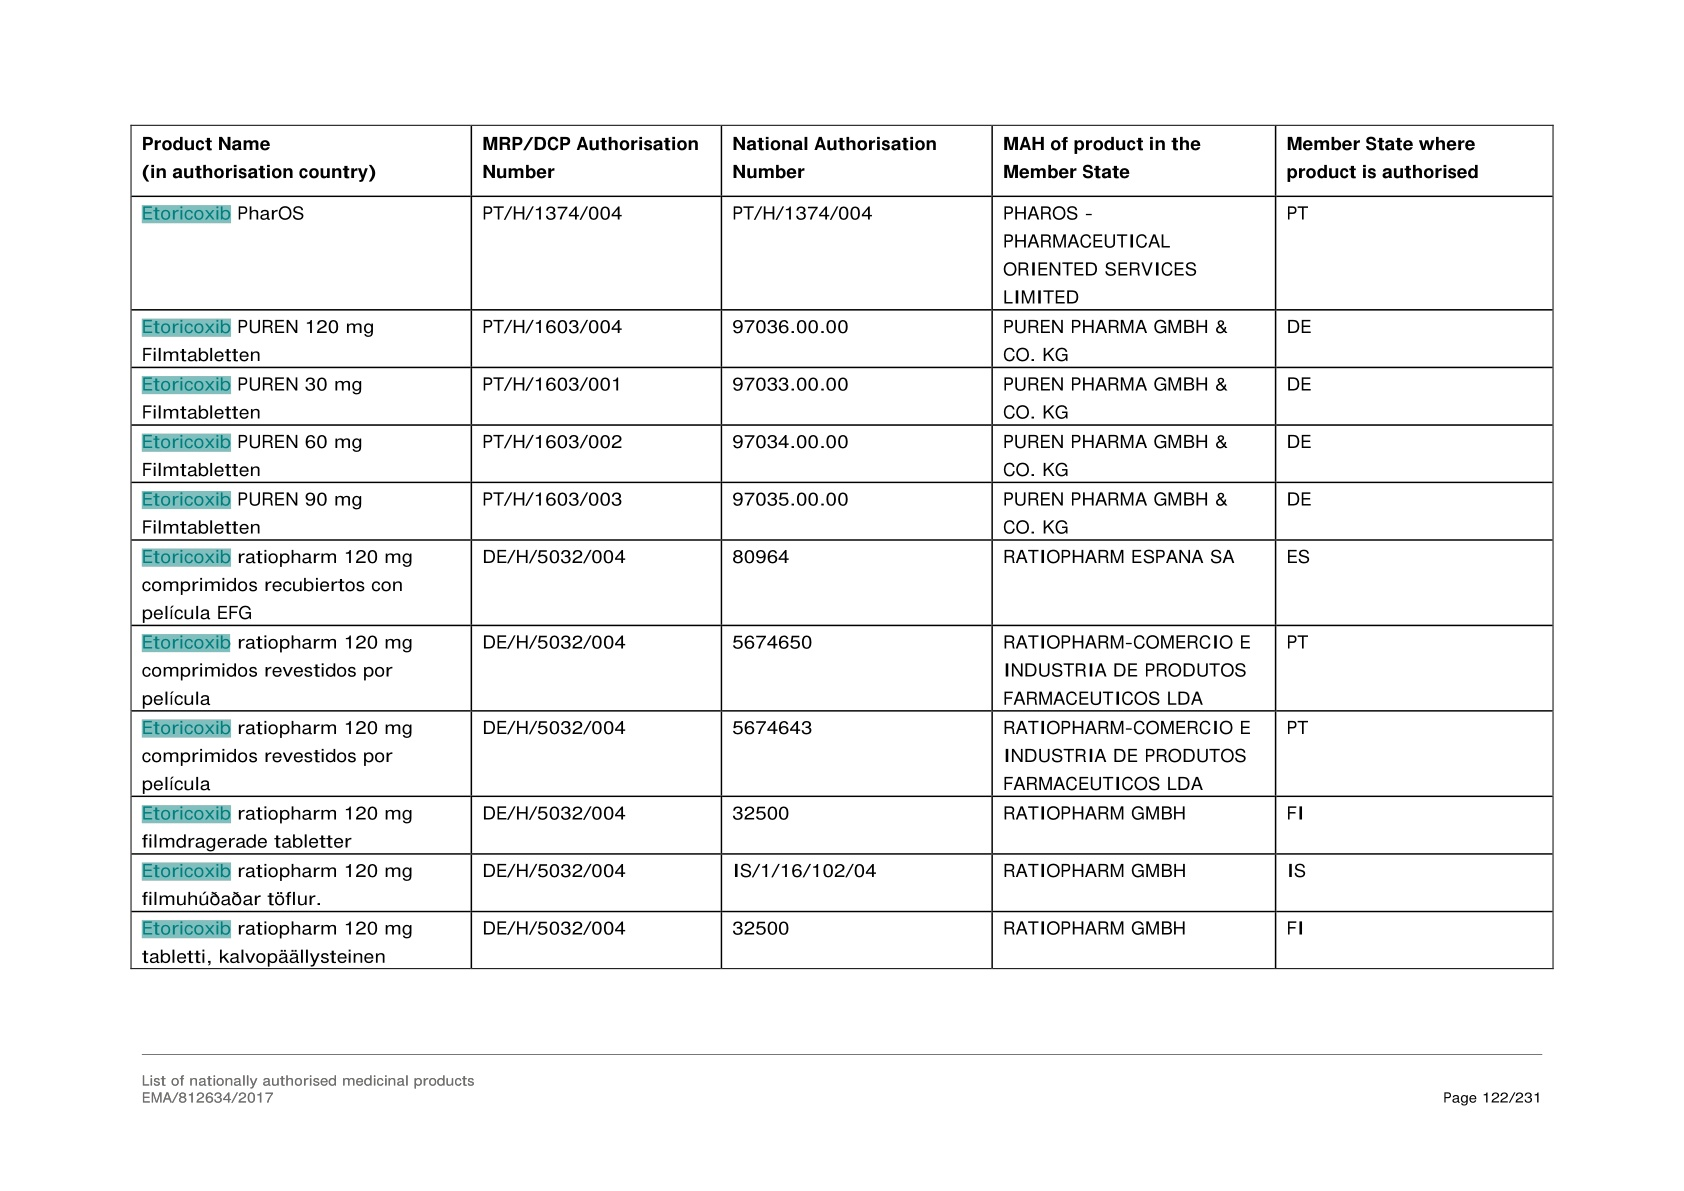full_lined: (128, 122, 1554, 971)
